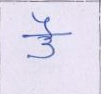ai_matra: (32, 12, 54, 34)
